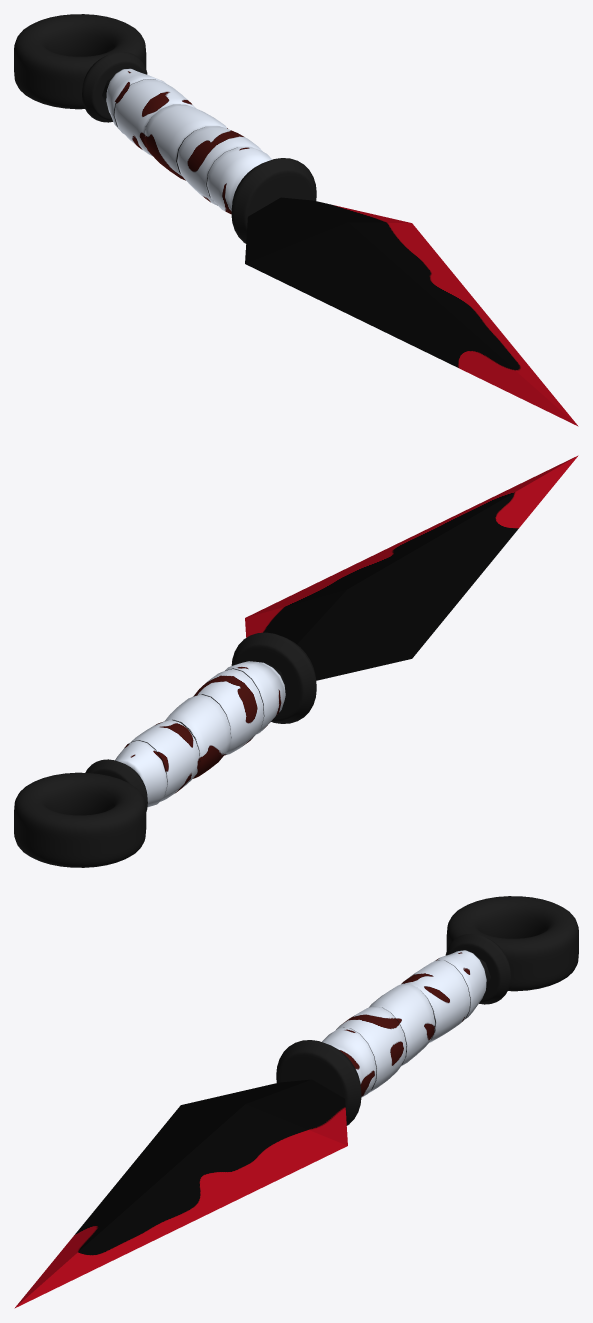
File: kunai1.glb
The picture shows the model from 3 angles, top to bottom: view 1: azimuth 30°, elevation 25°; view 2: azimuth 150°, elevation 25°; view 3: azimuth 330°, elevation 25°; orthographic projection.
Parts seen in each view (by area): view 1: Kunai; view 2: Kunai; view 3: Kunai.
Boxes of the visible parts, x1,y1,x2,y2 form: Kunai: (14, 14, 578, 426); Kunai: (14, 455, 578, 867); Kunai: (14, 896, 578, 1308).
Bounding box in the file's own units: 140 × 71.36 × 771.
3 materials, 2 textured.
